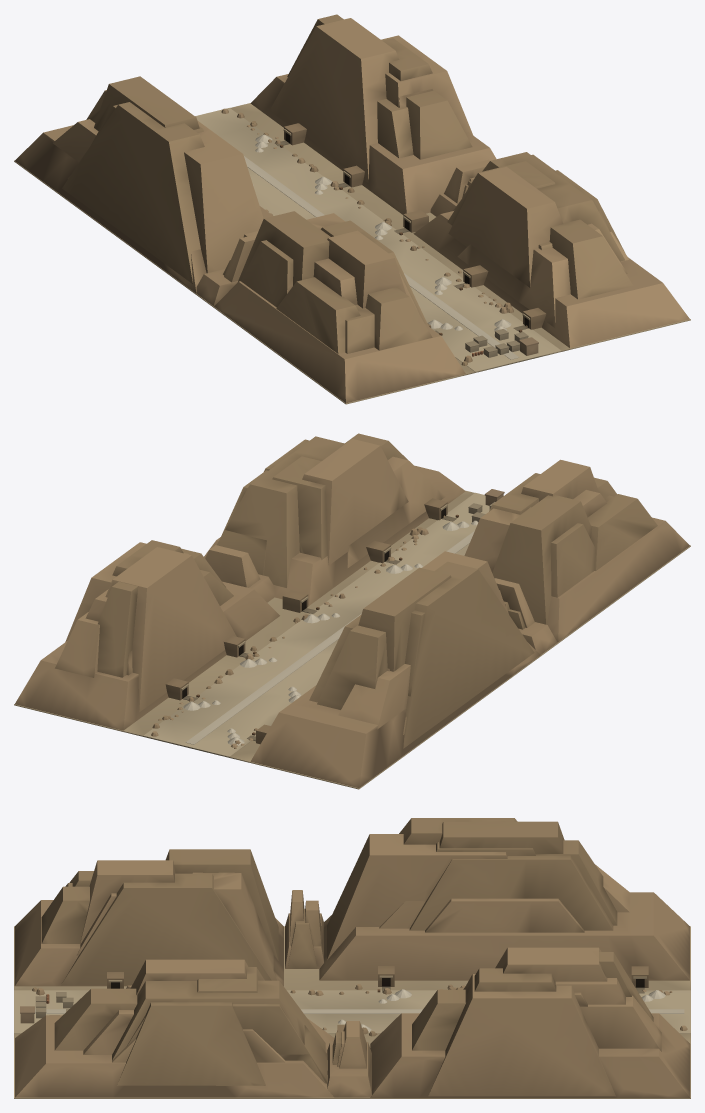
The model's file is valley-of-the-kings.glb.
3 views of the same model, one above another, from view 1: azimuth 30°, elevation 25°; view 2: azimuth 150°, elevation 25°; view 3: azimuth 270°, elevation 25° (orthographic).
Visible parts, largest first — view 1: p1_rocks, p0_ground, p2_tombs, p3_huts; view 2: p1_rocks, p0_ground, p2_tombs; view 3: p1_rocks, p0_ground, p2_tombs, p3_huts.
Part boxes in pixels (bbox=[...]): p1_rocks: bbox=[15, 14, 689, 403]; p0_ground: bbox=[14, 103, 690, 404]; p2_tombs: bbox=[253, 123, 546, 335]; p3_huts: bbox=[465, 329, 538, 357]; p1_rocks: bbox=[15, 433, 689, 787]; p0_ground: bbox=[14, 490, 690, 789]; p2_tombs: bbox=[165, 498, 478, 745]; p1_rocks: bbox=[14, 818, 690, 1097]; p0_ground: bbox=[14, 926, 690, 1098]; p2_tombs: bbox=[107, 966, 665, 1032]; p3_huts: bbox=[20, 992, 73, 1023].
Size of the model in its own units: 120 by 39.26 by 200.
